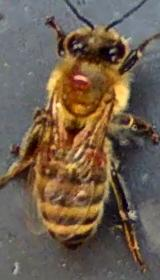varroa_mite: (54, 68, 102, 104), (78, 129, 114, 174)
